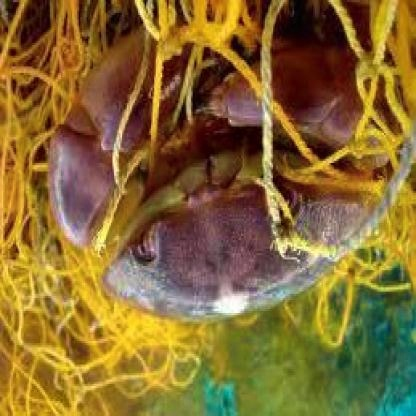net: (0, 0, 182, 416)
